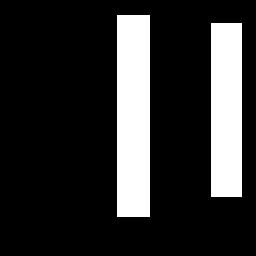person: (117, 15, 149, 216), (211, 23, 241, 196)
